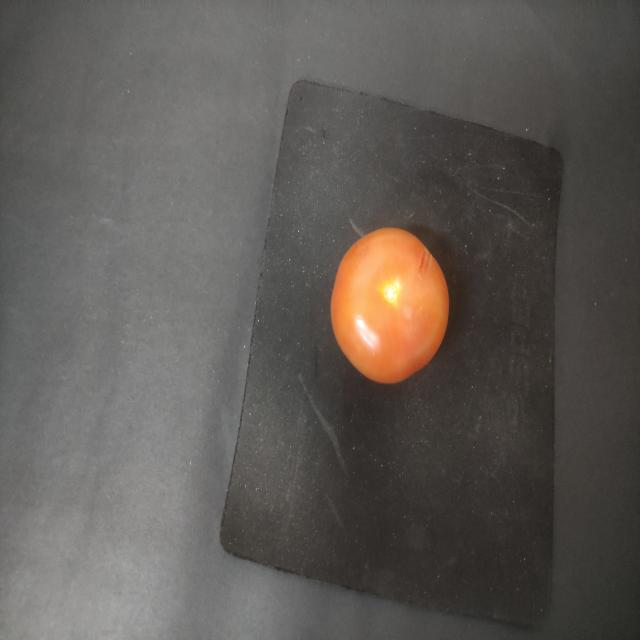sari: (321, 214, 461, 400)
